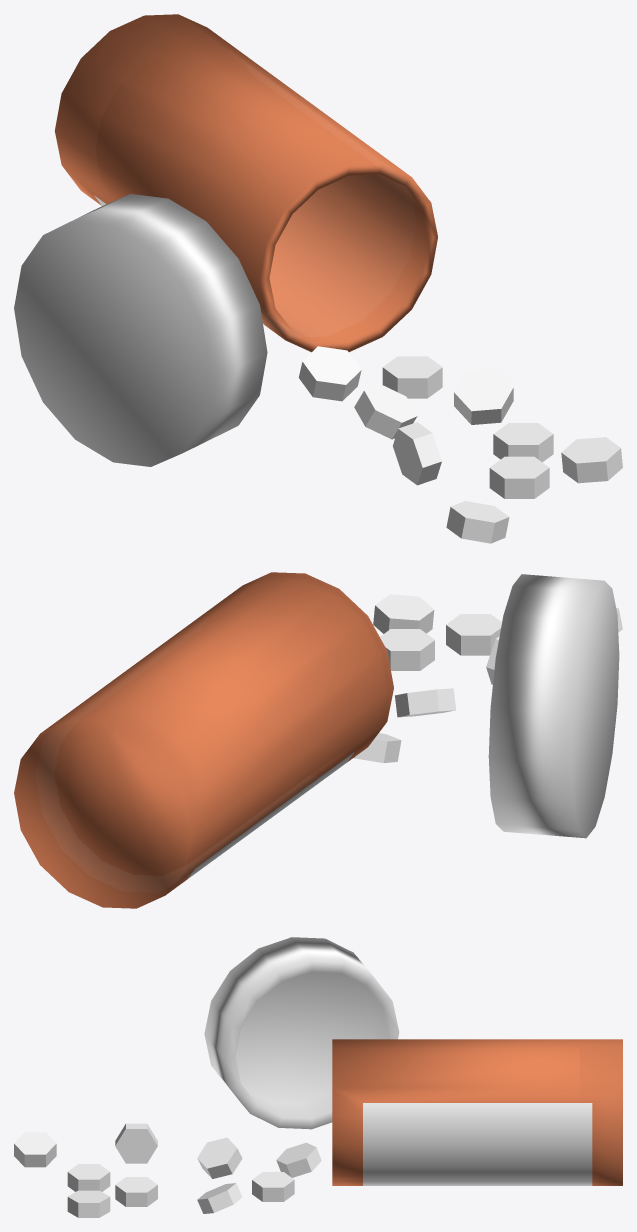
Rendered from PillBottle_joine2.fbx.
3 views of the same model, one above another, from view 1: azimuth 30°, elevation 25°; view 2: azimuth 150°, elevation 25°; view 3: azimuth 270°, elevation 25° (orthographic). The views are drawn at different scales.
Parts seen in each view (by area): view 1: Cylinder.001; view 2: Cylinder.001; view 3: Cylinder.001.
Part boxes in pixels (x1,y1,x2,y2): Cylinder.001: (14, 14, 622, 543); Cylinder.001: (14, 572, 622, 908); Cylinder.001: (14, 937, 622, 1217).
Size of the model in its own units: 444 by 253 by 830.
